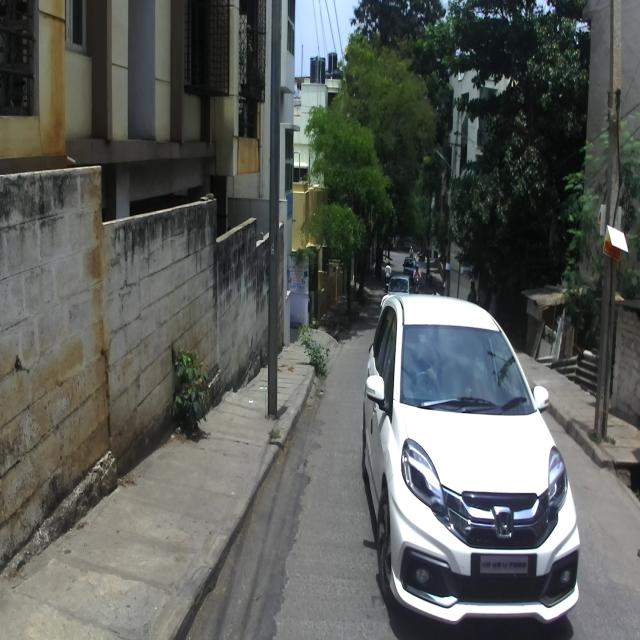car ahead at: (364, 283, 582, 623)
electric pole ahead at: (263, 0, 286, 418)
